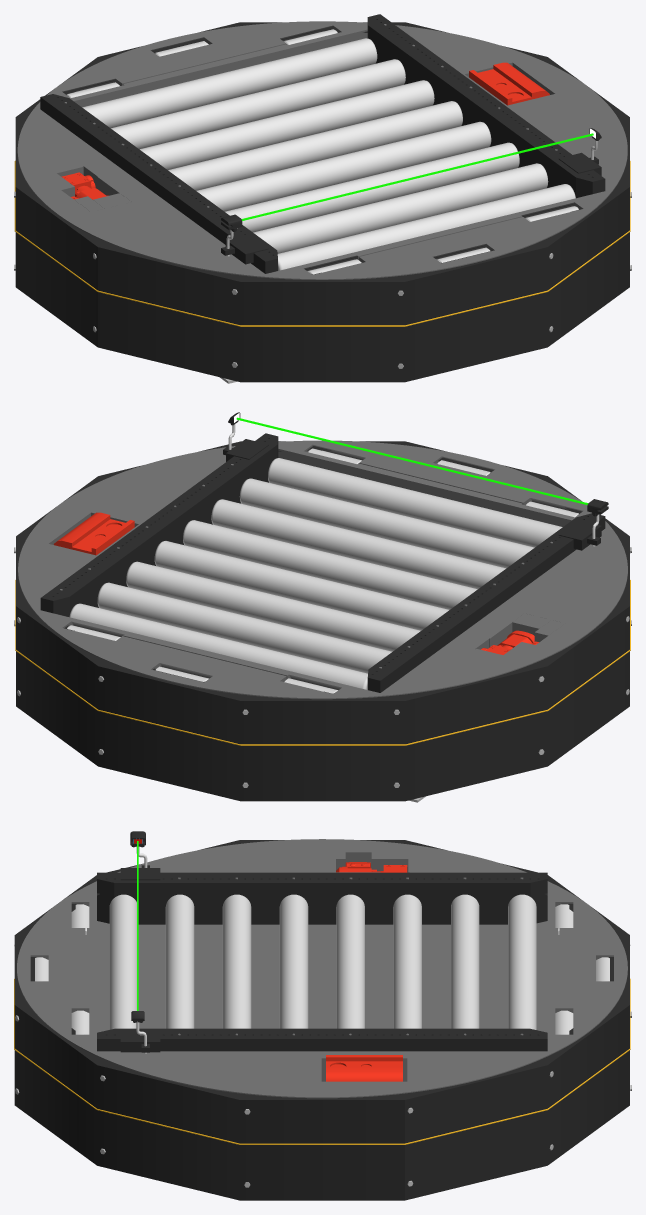
Rendered from realvirtual_turntable.glb.
3 renders of one model, top to bottom at view 1: azimuth 30°, elevation 25°; view 2: azimuth 150°, elevation 25°; view 3: azimuth 270°, elevation 25°, orthographic.
Parts seen in each view (by area): view 1: Base, Drive-Rot-Y, Roll, DriveRolls, SmallRoll, Light, Ray, Reflector, DriveRotate; view 2: Base, Drive-Rot-Y, Roll, DriveRolls, SmallRoll, Light, Ray, Reflector, DriveRotate; view 3: Drive-Rot-Y, Base, Roll, SmallRoll, DriveRolls, Reflector, Light, DriveRotate.
Boxes of the visible parts, x1=… form: Base: x1=14, y1=22, x2=631, y2=383; Drive-Rot-Y: x1=17, y1=14, x2=627, y2=279; Roll: x1=82, y1=38, x2=575, y2=270; DriveRolls: x1=469, y1=62, x2=549, y2=105; SmallRoll: x1=67, y1=29, x2=578, y2=274; Light: x1=221, y1=214, x2=268, y2=264; Ray: x1=241, y1=133, x2=593, y2=220; Reflector: x1=558, y1=128, x2=601, y2=175; DriveRotate: x1=61, y1=172, x2=108, y2=199; Base: x1=14, y1=441, x2=631, y2=802; Drive-Rot-Y: x1=18, y1=433, x2=627, y2=699; Roll: x1=69, y1=458, x2=562, y2=689; DriveRolls: x1=54, y1=512, x2=134, y2=555; SmallRoll: x1=67, y1=448, x2=578, y2=693; Light: x1=558, y1=499, x2=608, y2=550; Ray: x1=236, y1=417, x2=588, y2=505; Reflector: x1=223, y1=412, x2=268, y2=461; DriveRotate: x1=481, y1=630, x2=538, y2=654; Drive-Rot-Y: x1=17, y1=839, x2=627, y2=1098; Base: x1=14, y1=840, x2=631, y2=1200; Roll: x1=109, y1=894, x2=536, y2=1029; SmallRoll: x1=35, y1=904, x2=609, y2=1034; DriveRolls: x1=326, y1=1055, x2=402, y2=1081; Reflector: x1=120, y1=1011, x2=160, y2=1053; Light: x1=120, y1=831, x2=160, y2=880; DriveRotate: x1=336, y1=862, x2=407, y2=872.
Size of the model in its own units: 1.9 by 0.6327 by 1.9.
